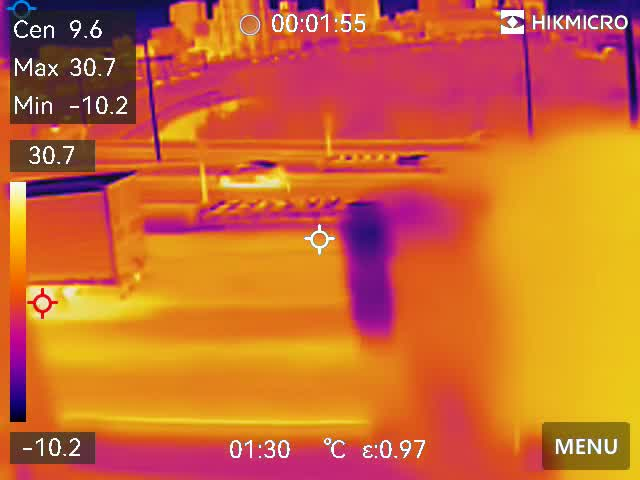heavyTruck: (21, 170, 150, 302)
smallCar: (213, 160, 286, 188)
